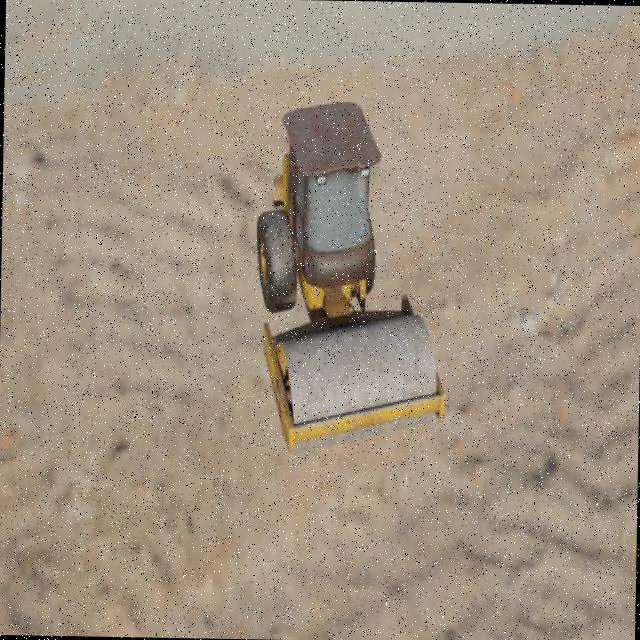Roller: (252, 98, 450, 456)
